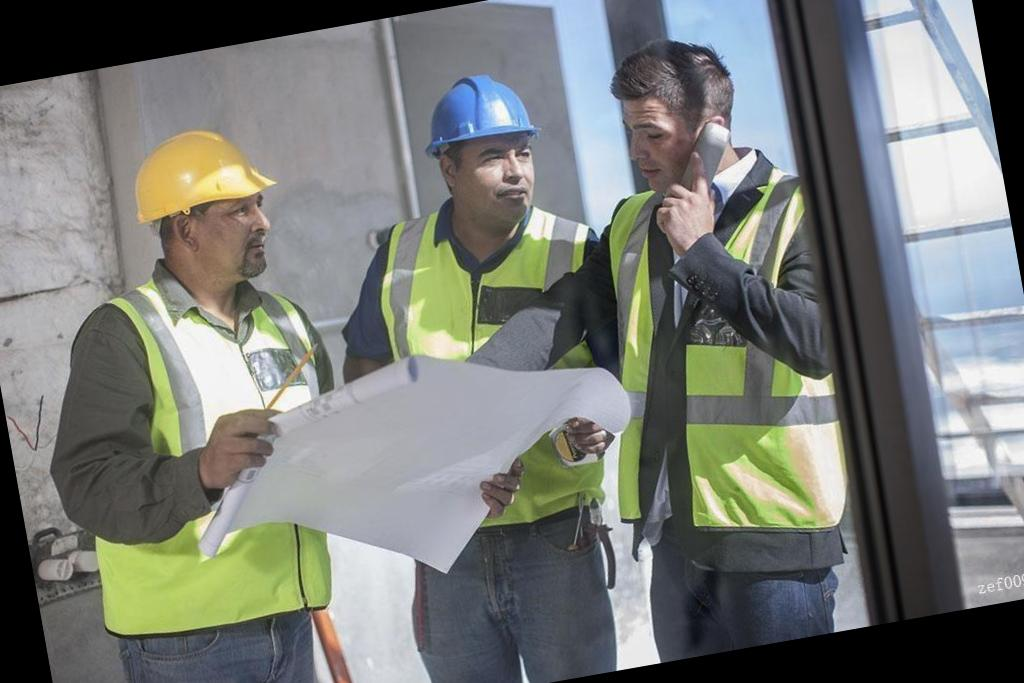helmet: (116, 120, 288, 237), (410, 66, 542, 155)
person: (321, 52, 682, 683), (0, 109, 393, 683), (574, 15, 882, 658)
